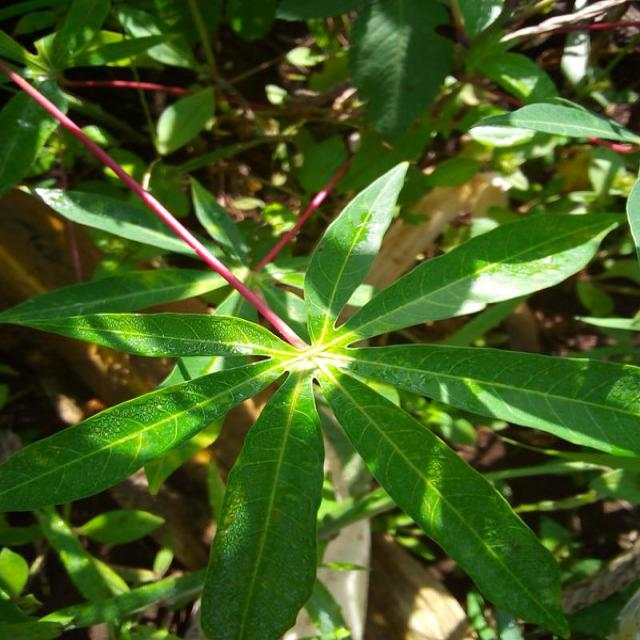cassava leaf: (200, 367, 326, 638)
